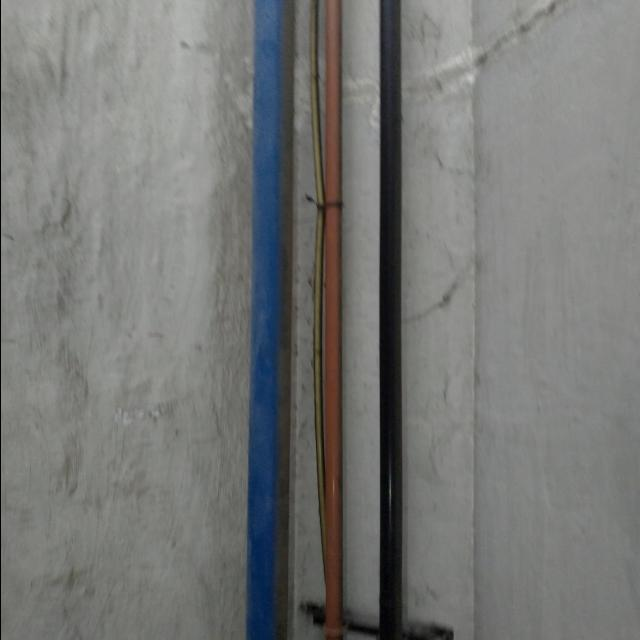gas: (244, 0, 290, 636), (316, 0, 348, 640), (382, 0, 402, 640)
